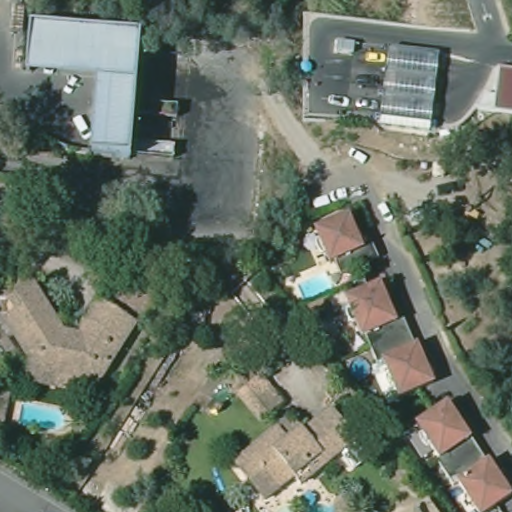pool: (15, 402, 70, 432), (299, 273, 339, 301), (347, 354, 373, 380), (300, 487, 321, 508)
